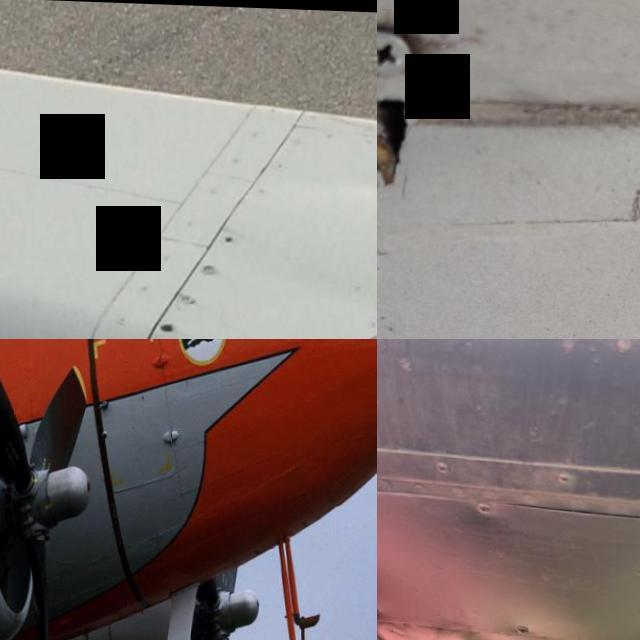Crack: (377, 67, 450, 225), (154, 320, 178, 336)
Dent: (377, 609, 640, 640)
